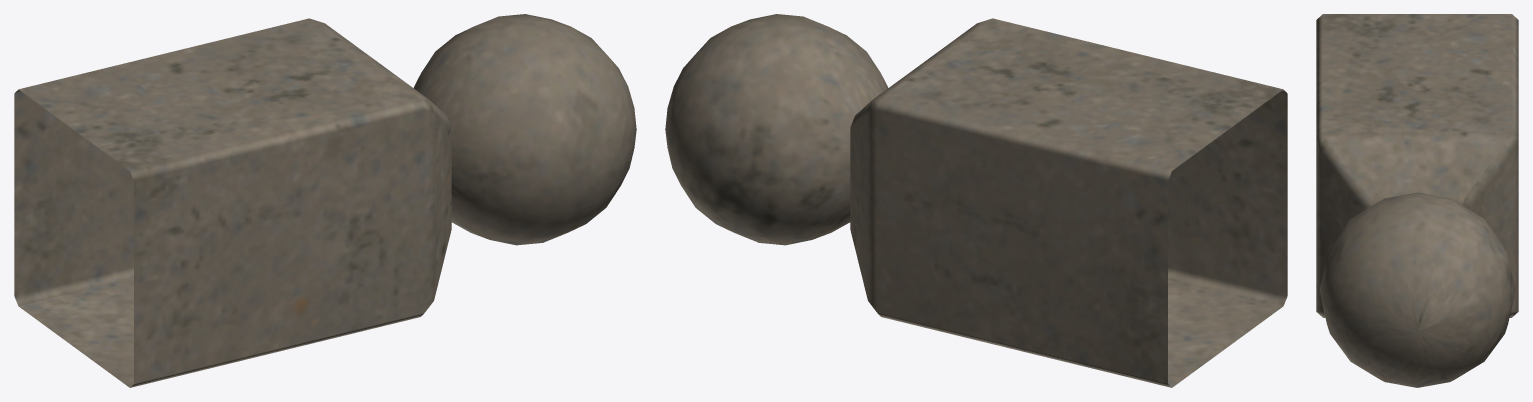
File: cP_GardenLiner01_SpherePost.dae
The picture shows the model from 3 angles, left to right: view 1: azimuth 30°, elevation 25°; view 2: azimuth 150°, elevation 25°; view 3: azimuth 270°, elevation 25°; orthographic projection. The views are drawn at different scales.
Parts seen in each view (by area): view 1: cP_GardenLiner01_SpherePost.001; view 2: cP_GardenLiner01_SpherePost.001; view 3: cP_GardenLiner01_SpherePost.001.
Boxes of the visible parts, x1,y1,x2,y2 form: cP_GardenLiner01_SpherePost.001: (14, 14, 636, 387); cP_GardenLiner01_SpherePost.001: (665, 14, 1287, 387); cP_GardenLiner01_SpherePost.001: (1316, 14, 1518, 387).
Bounding box in the file's own units: 0.5843 × 0.2214 × 0.2214.
